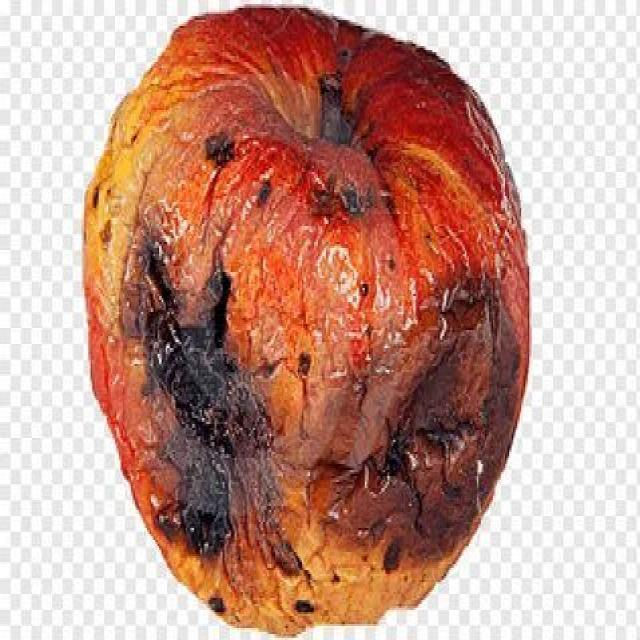Rotten: (88, 10, 534, 636)
